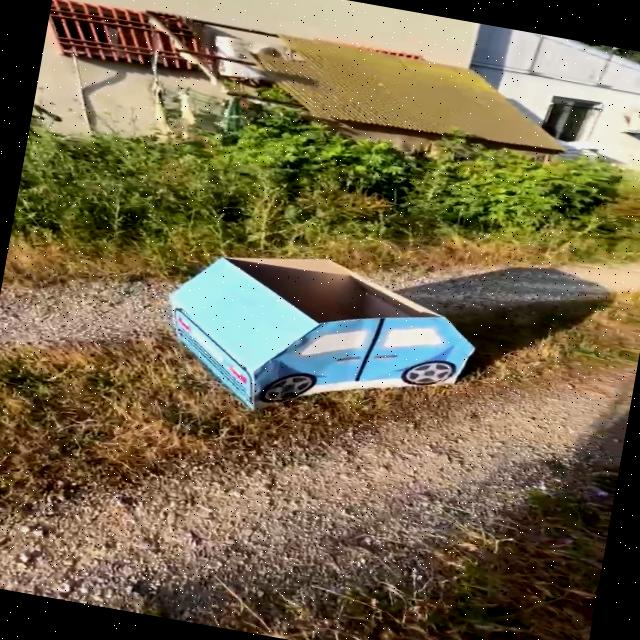blue_car: (114, 203, 538, 471)
